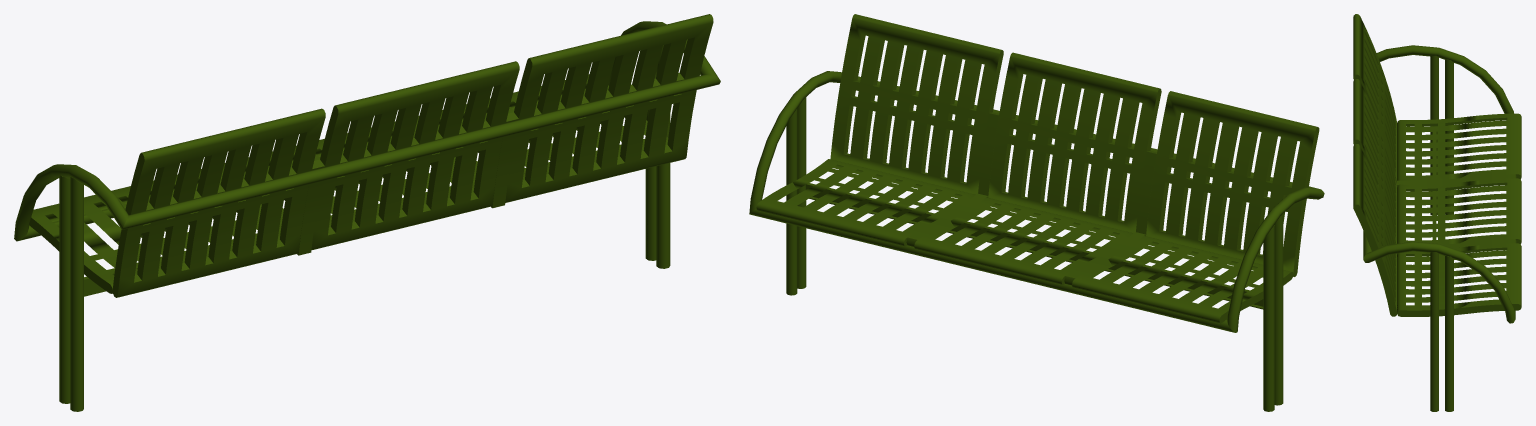
3 renders of one model, left to right at view 1: azimuth 30°, elevation 25°; view 2: azimuth 150°, elevation 25°; view 3: azimuth 270°, elevation 25°, orthographic. The views are drawn at different scales.
Parts seen in each view (by area): view 1: mesh15_mesh15-geometry, mesh39_mesh39-geometry, mesh12_mesh12-geometry, mesh8_mesh8-geometry, mesh9_mesh9-geometry, mesh3_mesh3-geometry, mesh44_mesh44-geometry; view 2: mesh15_mesh15-geometry, mesh12_mesh12-geometry, mesh9_mesh9-geometry, mesh44_mesh44-geometry, mesh8_mesh8-geometry, mesh5_mesh5-geometry, mesh42_mesh42-geometry, mesh3_mesh3-geometry, mesh1_mesh1-geometry; view 3: mesh12_mesh12-geometry, mesh15_mesh15-geometry, mesh9_mesh9-geometry, mesh8_mesh8-geometry, mesh1_mesh1-geometry, mesh3_mesh3-geometry, mesh44_mesh44-geometry, mesh42_mesh42-geometry.
Part boxes in pixels (bbox=[...]): mesh15_mesh15-geometry: bbox=[112, 14, 713, 297]; mesh39_mesh39-geometry: bbox=[122, 74, 720, 229]; mesh12_mesh12-geometry: bbox=[29, 74, 668, 293]; mesh8_mesh8-geometry: bbox=[70, 45, 670, 411]; mesh9_mesh9-geometry: bbox=[59, 72, 656, 403]; mesh3_mesh3-geometry: bbox=[14, 164, 128, 241]; mesh44_mesh44-geometry: bbox=[220, 112, 518, 255]; mesh15_mesh15-geometry: bbox=[830, 14, 1319, 276]; mesh12_mesh12-geometry: bbox=[756, 159, 1293, 323]; mesh9_mesh9-geometry: bbox=[786, 109, 1274, 411]; mesh44_mesh44-geometry: bbox=[906, 112, 1156, 285]; mesh8_mesh8-geometry: bbox=[797, 97, 1283, 405]; mesh5_mesh5-geometry: bbox=[749, 208, 1234, 332]; mesh42_mesh42-geometry: bbox=[806, 183, 1263, 309]; mesh3_mesh3-geometry: bbox=[1227, 187, 1324, 332]; mesh1_mesh1-geometry: bbox=[749, 71, 841, 213]; mesh12_mesh12-geometry: bbox=[1397, 113, 1521, 316]; mesh15_mesh15-geometry: bbox=[1353, 14, 1396, 316]; mesh9_mesh9-geometry: bbox=[1445, 59, 1453, 411]; mesh8_mesh8-geometry: bbox=[1430, 55, 1438, 411]; mesh1_mesh1-geometry: bbox=[1363, 241, 1515, 323]; mesh3_mesh3-geometry: bbox=[1376, 45, 1513, 113]; mesh44_mesh44-geometry: bbox=[1377, 119, 1517, 256]; mesh42_mesh42-geometry: bbox=[1432, 131, 1436, 239].
Size of the model in its own units: 0.8609 by 0.4065 by 0.3061.
